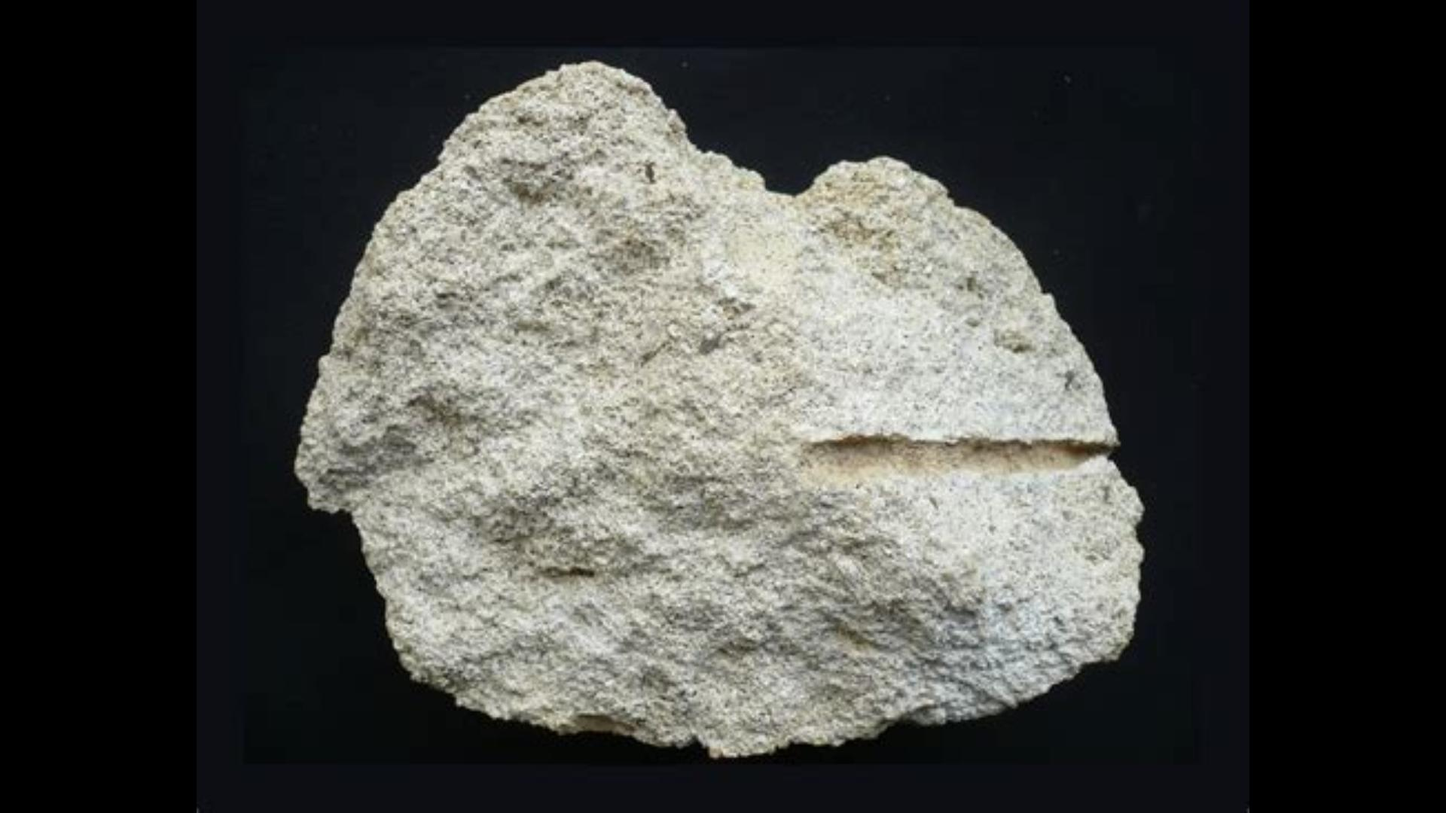rock: (297, 62, 1139, 753)
